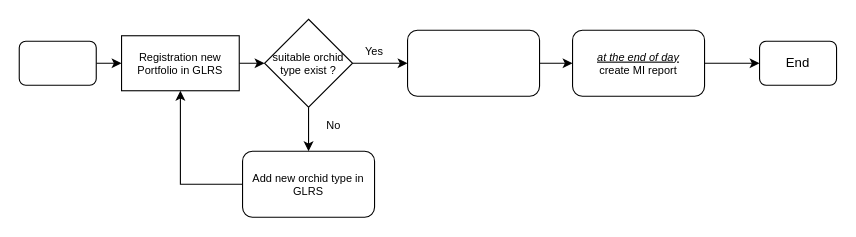
Image size: 856x237. Some labels were removed from this diagram. The box of each missing label's shape, as (x1, y1, x2, y2) in pixels:
select the suitable type: (406, 29, 540, 96)
Start: (18, 40, 96, 85)
